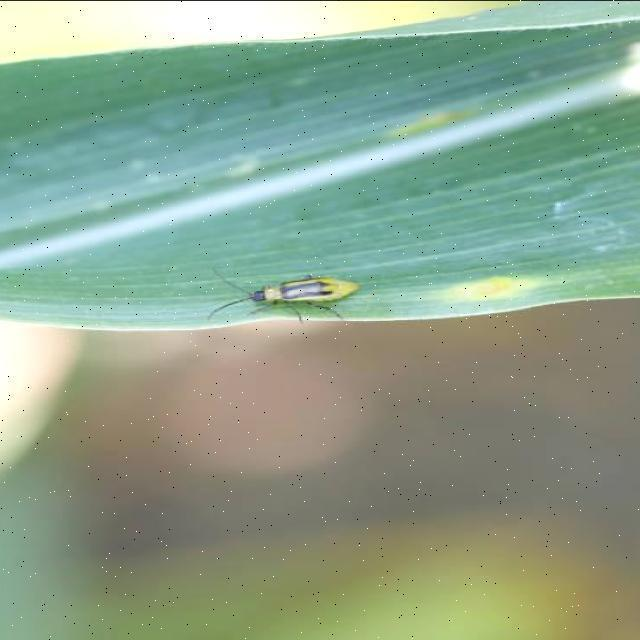trips: (208, 268, 362, 322)
